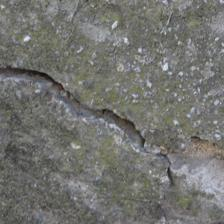Crack: (2, 33, 147, 122)
